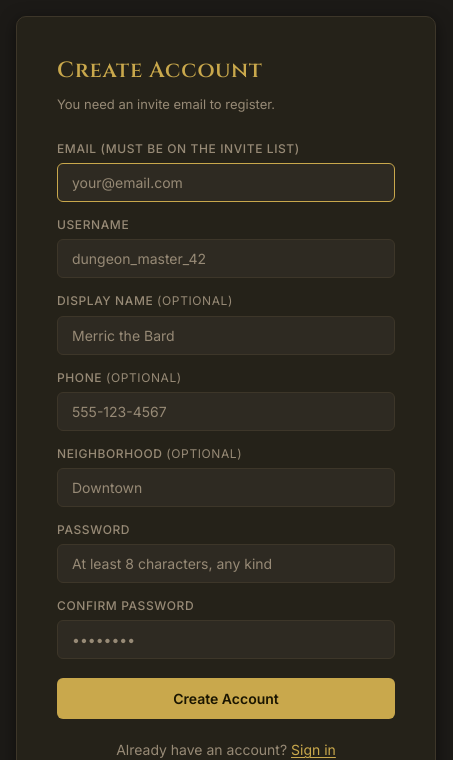
Test case: RegisterPage — when problems are pointed out › says nothing while typing, then explains after a 3-second pause
The image size is (453, 760).
In the field labelled "Email (must be on the invite list)": (226, 183) [57,163,395,202], type "dtg"
Wait 3000 ms
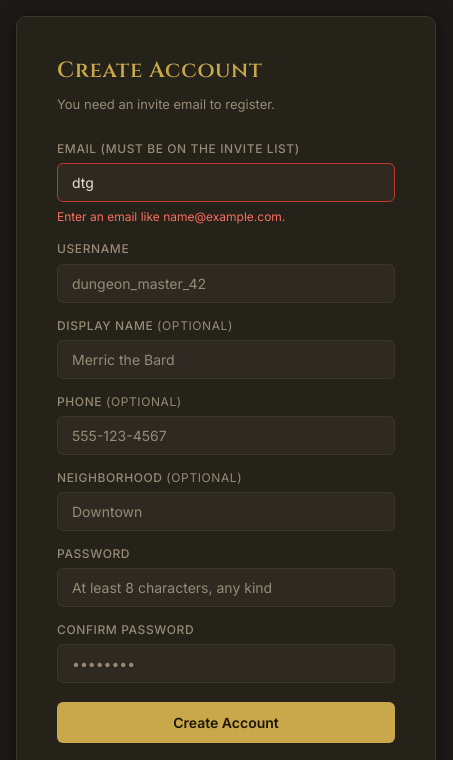
Check: the message "Enter an email like name@example.com." is shown, box [57,209,285,224]
